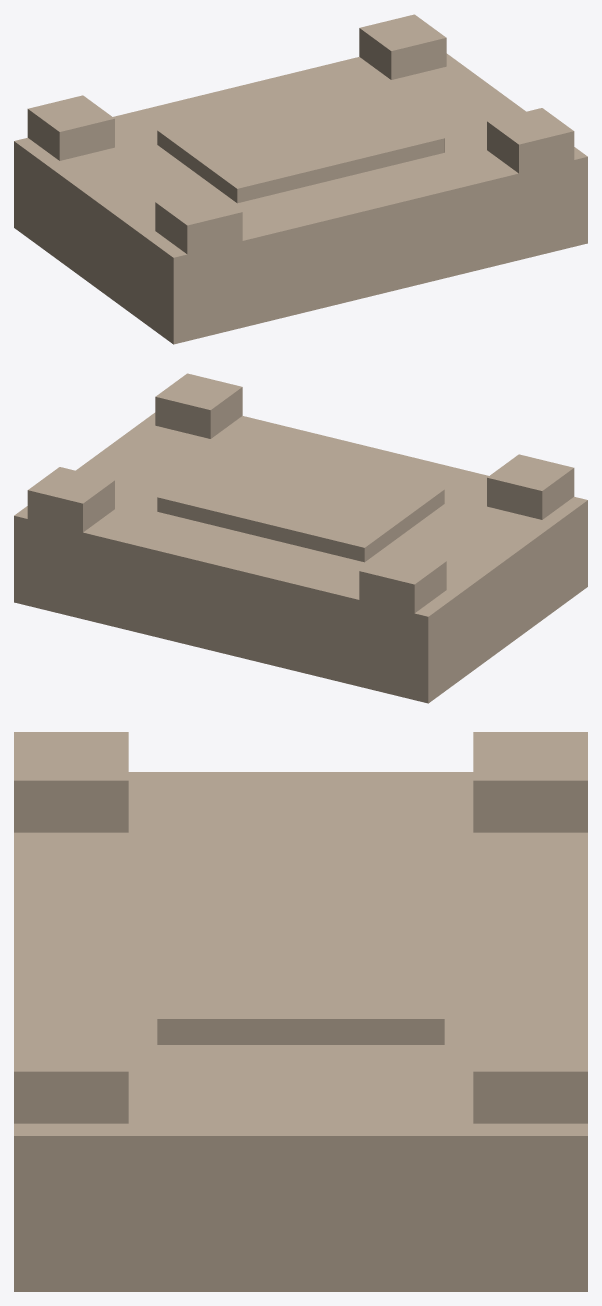
The model's file is palace.glb.
3 views of the same model, one above another, from view 1: azimuth 30°, elevation 25°; view 2: azimuth 150°, elevation 25°; view 3: azimuth 270°, elevation 25° (orthographic). The views are drawn at different scales.
Parts seen in each view (by area): view 1: Royal_Palace_Tower_NE; view 2: Royal_Palace_Tower_NE; view 3: Royal_Palace_Tower_NE.
Boxes of the visible parts, x1=… form: Royal_Palace_Tower_NE: x1=14, y1=14, x2=587, y2=344; Royal_Palace_Tower_NE: x1=14, y1=373, x2=587, y2=703; Royal_Palace_Tower_NE: x1=14, y1=732, x2=587, y2=1291.
Size of the model in its own units: 30 by 8 by 20.
